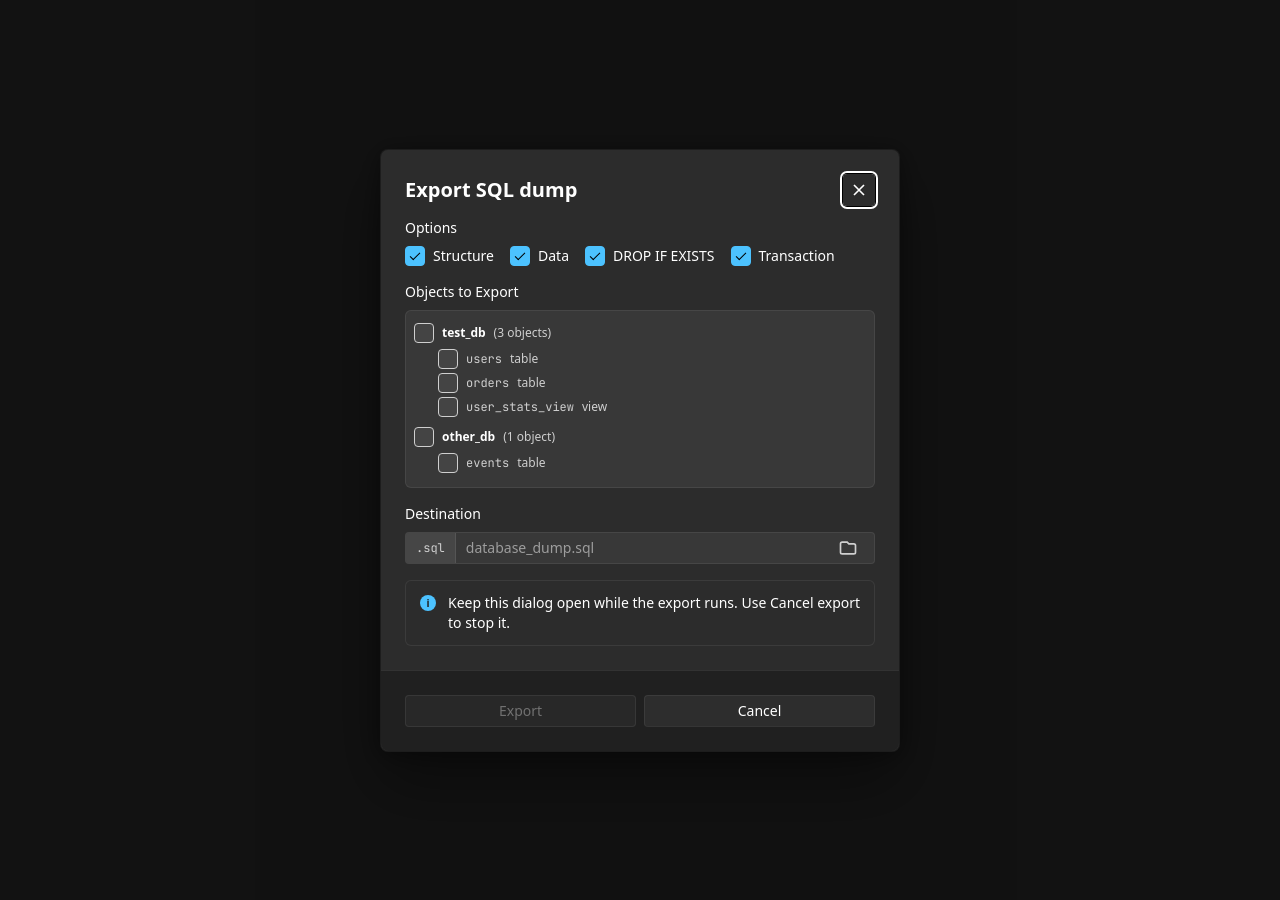
it: SqlDumpDialog › shows error when export fails
Expected: the element with test id "dump-object-tree" is shown, [405,310,875,488]
Click the checkbox with test id "dump-db-test_db".
click(424, 332)  # box [414,322,434,342]
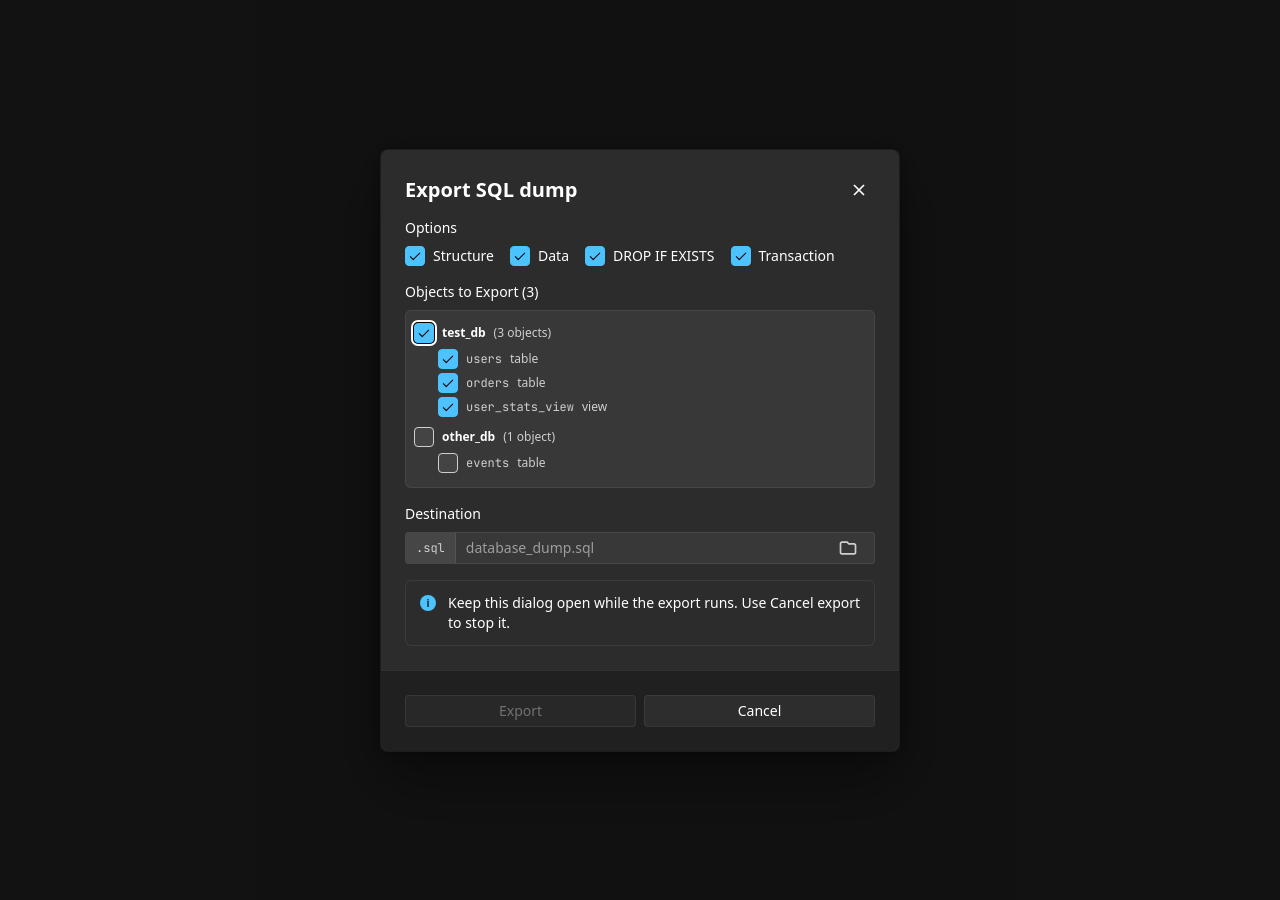
Type "/tmp/dump.sql" into the field with test id "dump-file-path-input".
click(639, 548); type("/tmp/dump.sql")  # box [456,532,822,562]
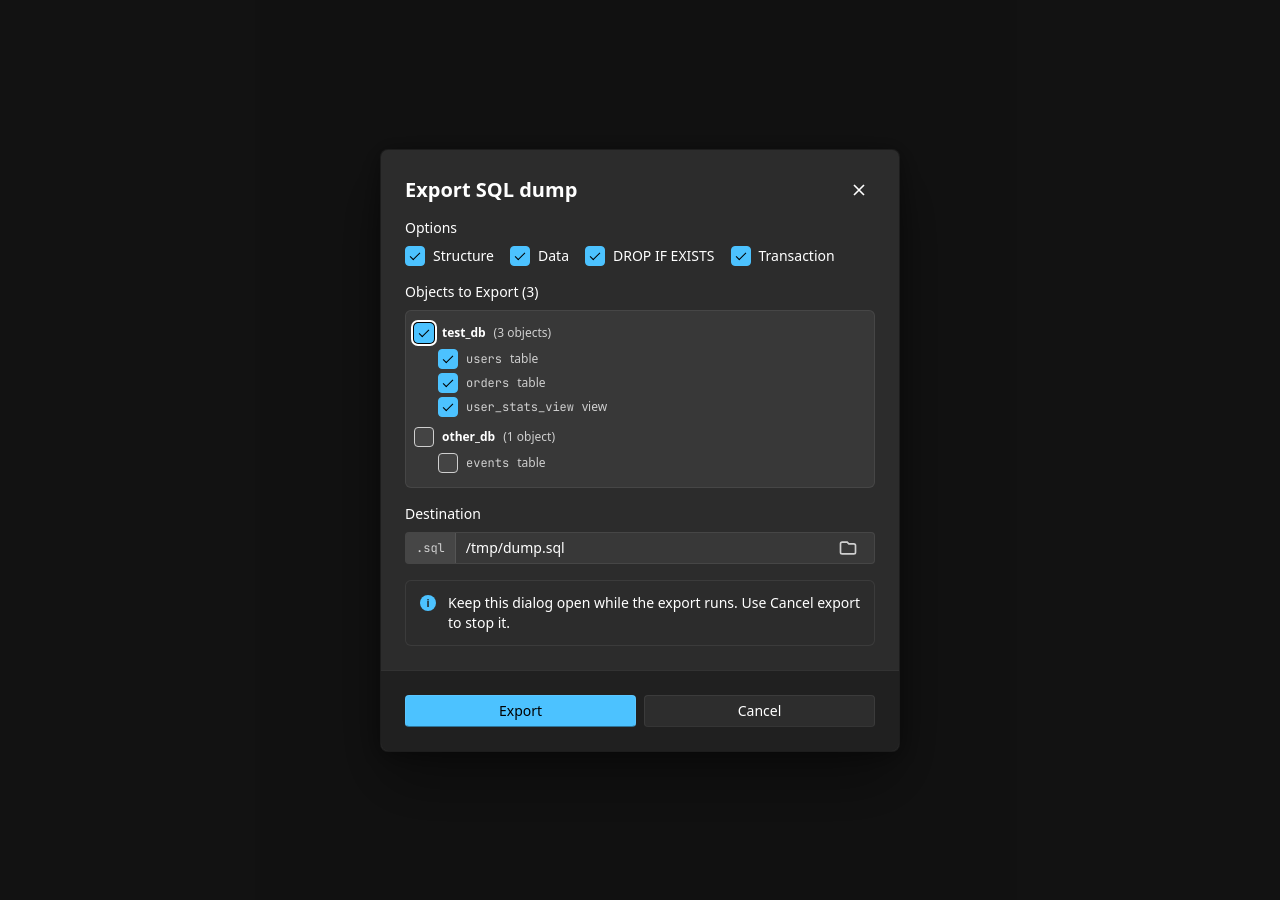
Click the button with test id "dump-submit-button".
click(520, 710)  # box [405,694,636,726]
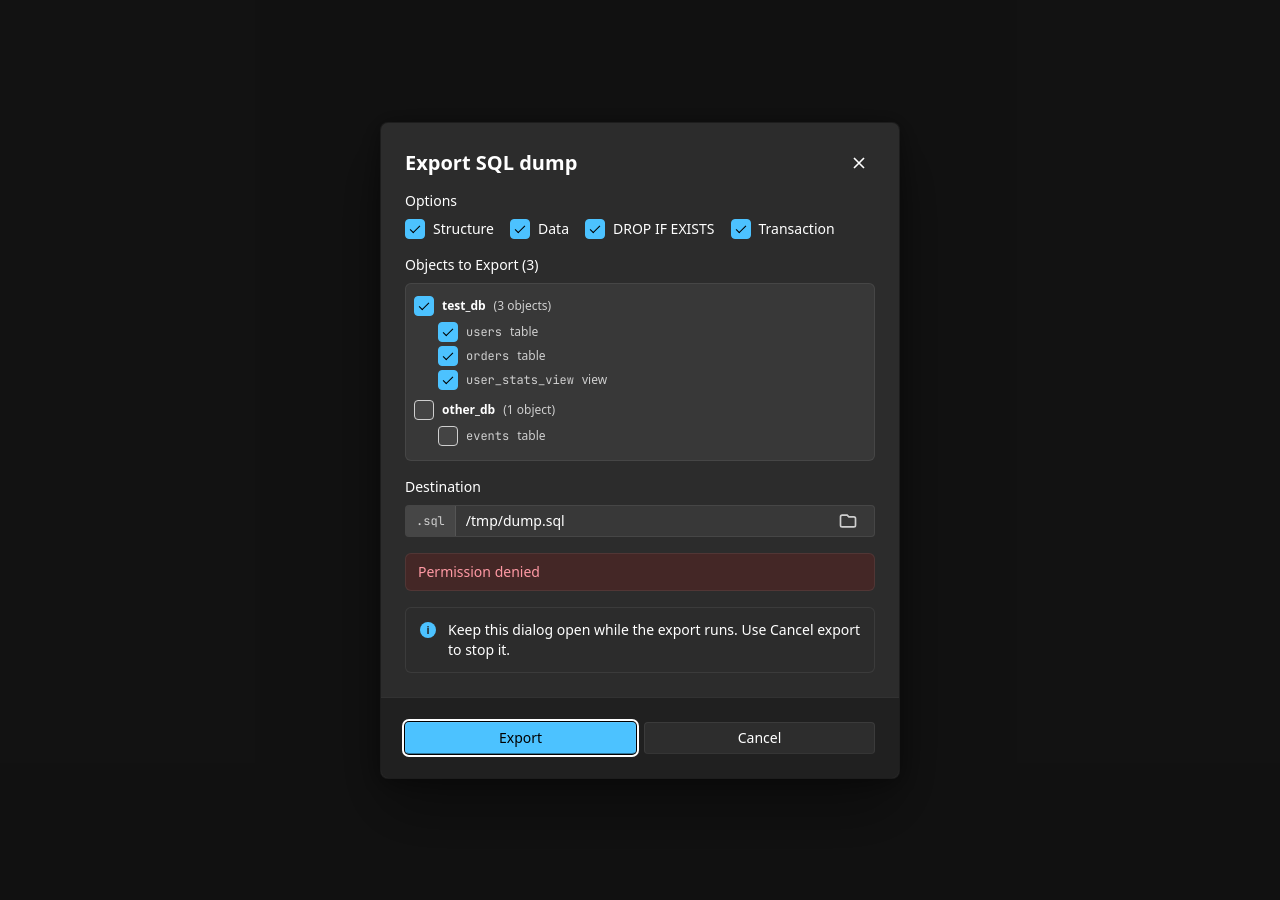
Expected: the text with test id "dump-error" reads "Permission denied", [418,562,540,580]
